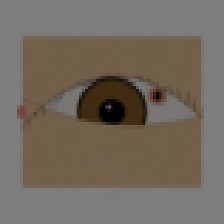foreign_body_visible: (136, 79, 179, 113)
